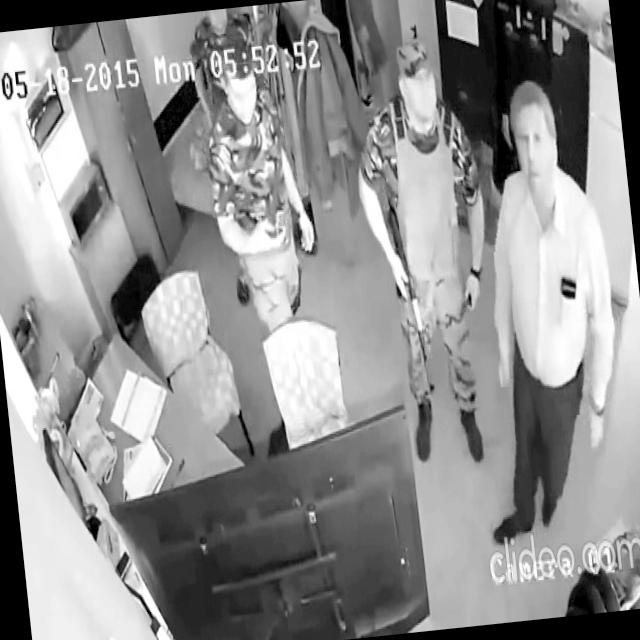gun: (384, 196, 430, 367)
person: (443, 71, 638, 546), (196, 30, 325, 342), (185, 6, 259, 131)
person with a gun: (342, 34, 512, 474)
